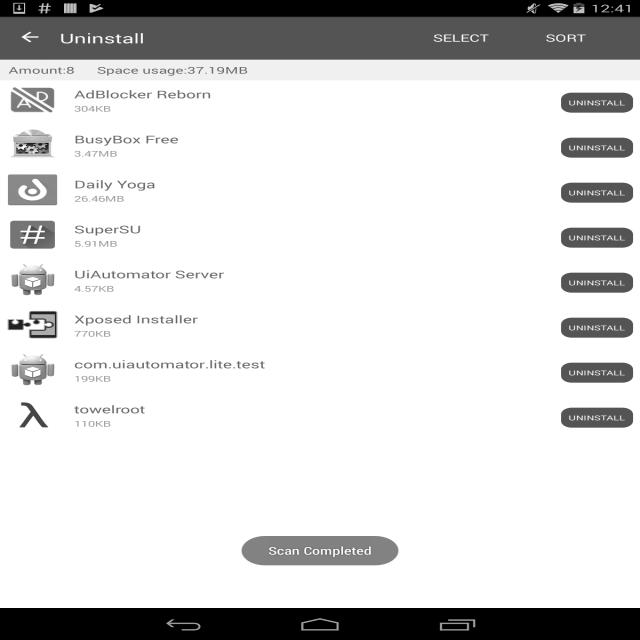Button: (414, 29, 508, 47), (518, 29, 612, 47), (561, 92, 633, 112), (561, 138, 633, 158), (561, 182, 633, 202), (561, 228, 633, 248), (561, 272, 633, 292), (561, 318, 633, 338), (561, 362, 633, 382), (561, 408, 633, 428)
ImageButton: (17, 29, 43, 45)
ImageView: (7, 173, 58, 206), (7, 308, 58, 341), (7, 398, 58, 431), (7, 128, 58, 160), (7, 218, 58, 250), (7, 264, 58, 296), (7, 354, 58, 386), (7, 84, 58, 115)
TextView: (0, 60, 640, 80), (74, 101, 561, 116), (74, 146, 561, 161), (74, 191, 561, 206), (74, 236, 561, 251), (74, 281, 561, 296), (74, 326, 561, 341), (74, 371, 561, 386), (74, 416, 561, 431), (74, 357, 266, 371), (74, 267, 225, 281), (74, 87, 211, 101), (74, 312, 198, 326), (59, 29, 144, 47), (74, 132, 179, 146), (74, 177, 156, 191), (74, 402, 146, 416), (74, 222, 141, 236)
